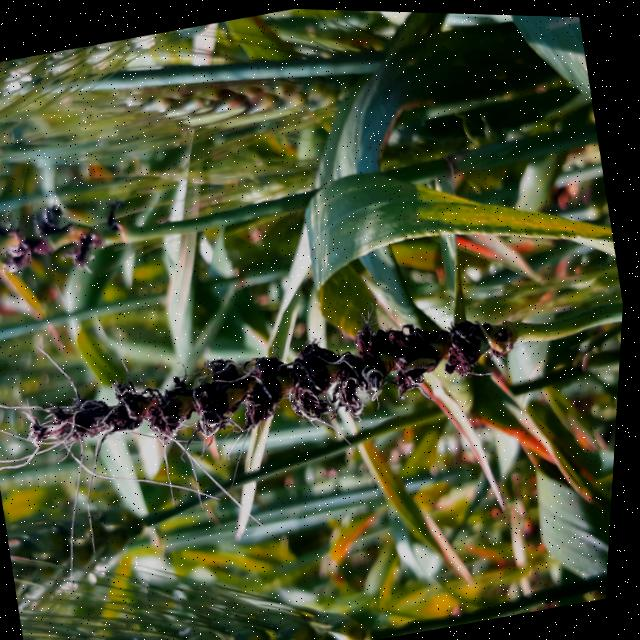loose_charred: (0, 242, 623, 542), (0, 159, 167, 342)
